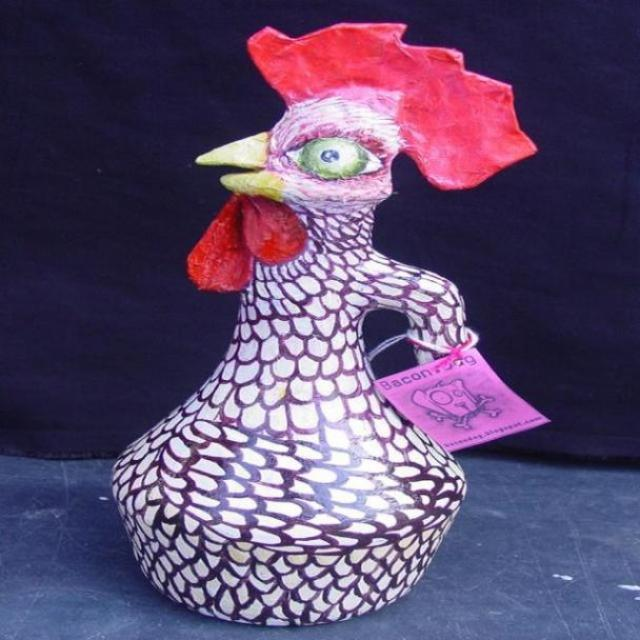Chicken: (69, 0, 492, 616)
